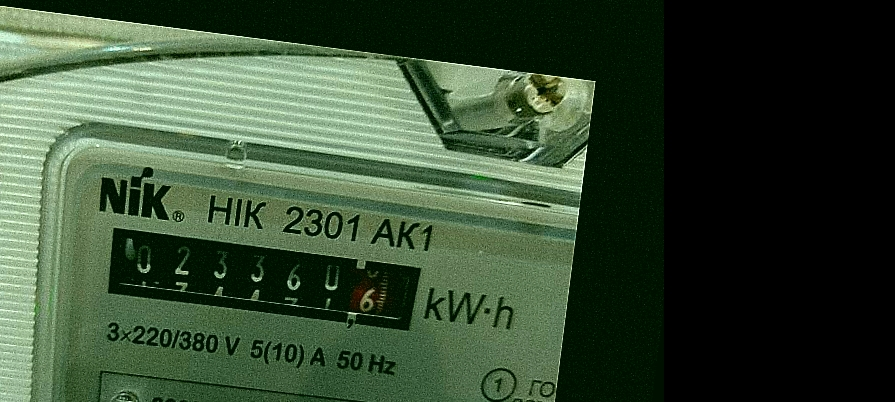0: (131, 240, 156, 275), (321, 260, 342, 293)
2: (169, 242, 196, 278)
3: (207, 246, 231, 281), (246, 250, 268, 284)
6: (281, 258, 305, 292), (354, 282, 378, 314)
screen: (84, 208, 436, 348)
